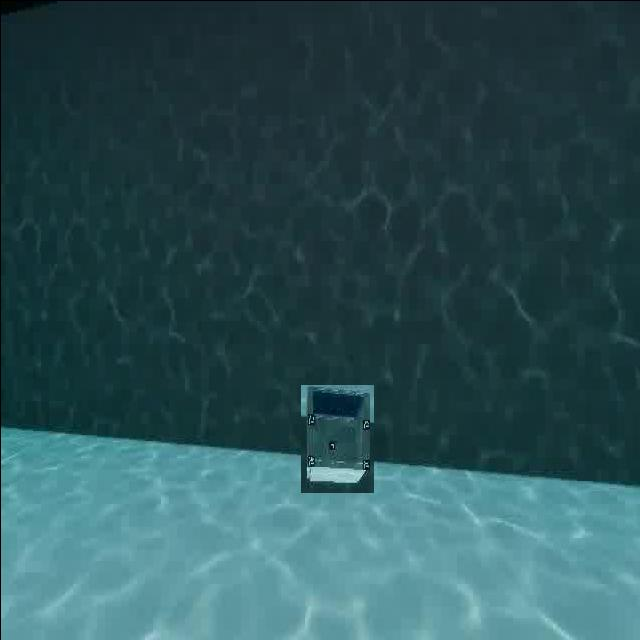Docking Station: (300, 383, 374, 492)
